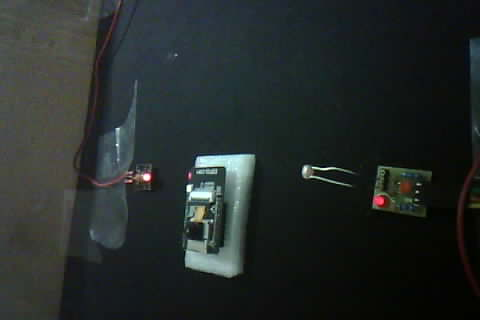esp32: (179, 152, 259, 277)
